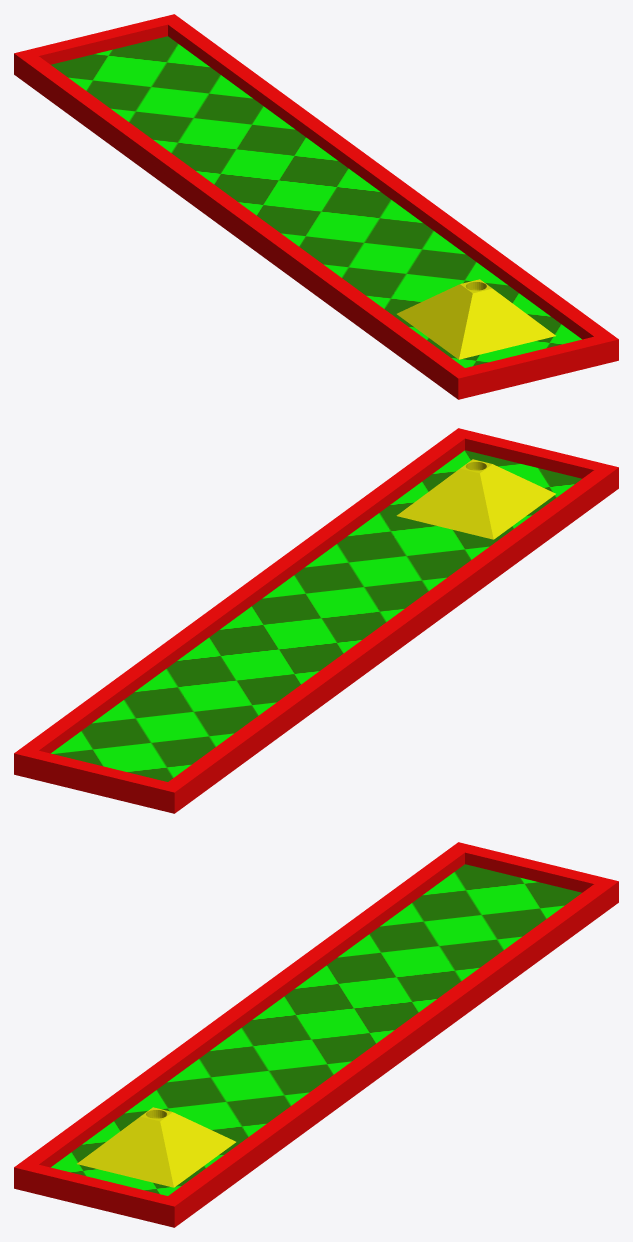
The model's file is PyramidTrack.fbx.
3 views of the same model, one above another, from view 1: azimuth 30°, elevation 25°; view 2: azimuth 150°, elevation 25°; view 3: azimuth 330°, elevation 25° (orthographic).
Visible parts, largest first — view 1: BahnF1_Track, BahnF1_Boundary, BahnF1_Extra; view 2: BahnF1_Track, BahnF1_Boundary, BahnF1_Extra; view 3: BahnF1_Track, BahnF1_Boundary, BahnF1_Extra.
Part boxes in pixels (<box>): BahnF1_Track: <box>51,36,581,367</box>; BahnF1_Boundary: <box>14,14,618,399</box>; BahnF1_Extra: <box>397,279,555,359</box>; BahnF1_Track: <box>51,450,581,781</box>; BahnF1_Boundary: <box>14,428,618,813</box>; BahnF1_Extra: <box>396,459,555,539</box>; BahnF1_Track: <box>51,864,581,1195</box>; BahnF1_Boundary: <box>14,842,618,1227</box>; BahnF1_Extra: <box>77,1107,235,1187</box>.
Size of the model in its own units: 87 by 25 by 417.
